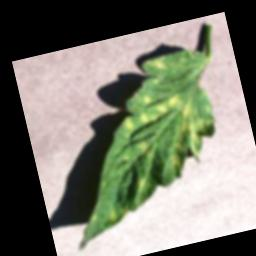Leaf_Mold: (146, 88, 221, 172), (136, 139, 153, 159), (150, 56, 167, 72), (122, 115, 135, 132), (138, 112, 150, 125)
